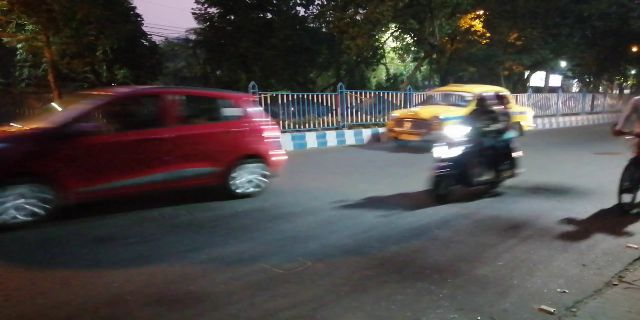Car: (9, 81, 288, 216)
Motorbike: (427, 96, 523, 201)
